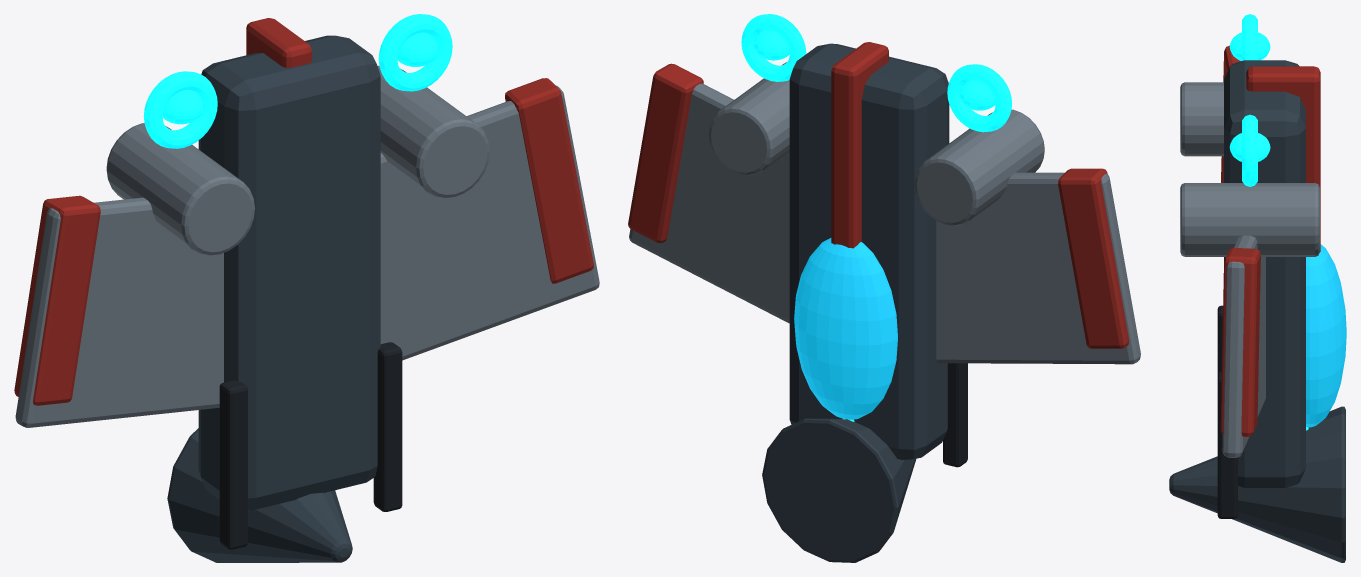
Rendered from strike-skimmer.glb.
The picture shows the model from 3 angles, left to right: view 1: azimuth 30°, elevation 25°; view 2: azimuth 150°, elevation 25°; view 3: azimuth 270°, elevation 25°; orthographic projection. The views are drawn at different scales.
Visible parts, largest first — view 1: Skimmer_Core, Skimmer_Wing_-1, Skimmer_Wing_1, Skimmer_Engine_-1, Skimmer_Nose, Skimmer_WingTip_-1, Skimmer_WingTip_1, Skimmer_Engine_1, Skimmer_Cannon_-1, Skimmer_Cannon_1, Skimmer_Thruster_-1, Skimmer_Thruster_1 (+3 smaller); view 2: Skimmer_Core, Skimmer_Wing_-1, Skimmer_Wing_1, Skimmer_Nose, Skimmer_Canopy, Skimmer_Engine_-1, Skimmer_WingTip_-1, Skimmer_WingTip_1, Skimmer_Spine, Skimmer_Engine_1, Skimmer_Thruster_-1, Skimmer_Thruster_1 (+3 smaller); view 3: Skimmer_Core, Skimmer_Nose, Skimmer_Engine_1, Skimmer_Canopy, Skimmer_Wing_1, Skimmer_WingTip_1, Skimmer_Spine, Skimmer_Engine_-1, Skimmer_Cannon_1, Skimmer_Thruster_1, Skimmer_Thruster_-1, Skimmer_Glow_-1 (+3 smaller).
Part boxes in pixels (x1,y1,x2,y2): Skimmer_Core: [198, 35, 380, 510]; Skimmer_Wing_-1: [15, 197, 223, 427]; Skimmer_Wing_1: [380, 85, 599, 360]; Skimmer_Engine_-1: [106, 123, 254, 255]; Skimmer_Nose: [167, 428, 352, 562]; Skimmer_WingTip_-1: [14, 195, 100, 405]; Skimmer_WingTip_1: [505, 78, 593, 283]; Skimmer_Engine_1: [377, 65, 489, 197]; Skimmer_Cannon_-1: [219, 380, 247, 549]; Skimmer_Cannon_1: [373, 342, 402, 511]; Skimmer_Thruster_-1: [143, 71, 217, 148]; Skimmer_Thruster_1: [378, 14, 452, 91]; Skimmer_Core: [789, 43, 949, 459]; Skimmer_Wing_-1: [936, 172, 1140, 364]; Skimmer_Wing_1: [629, 83, 789, 323]; Skimmer_Nose: [762, 418, 916, 562]; Skimmer_Canopy: [794, 238, 897, 419]; Skimmer_Engine_-1: [914, 109, 1044, 225]; Skimmer_WingTip_-1: [1058, 168, 1129, 348]; Skimmer_WingTip_1: [628, 63, 703, 242]; Skimmer_Spine: [831, 42, 888, 248]; Skimmer_Engine_1: [708, 62, 789, 175]; Skimmer_Thruster_-1: [947, 64, 1011, 132]; Skimmer_Thruster_1: [741, 14, 806, 81]; Skimmer_Core: [1224, 60, 1305, 487]; Skimmer_Nose: [1169, 406, 1345, 562]; Skimmer_Engine_1: [1180, 183, 1319, 256]; Skimmer_Canopy: [1306, 244, 1346, 427]; Skimmer_Wing_1: [1222, 235, 1265, 457]; Skimmer_WingTip_1: [1220, 247, 1260, 436]; Skimmer_Spine: [1246, 66, 1320, 251]; Skimmer_Engine_-1: [1180, 82, 1223, 156]; Skimmer_Cannon_1: [1217, 371, 1237, 518]; Skimmer_Thruster_1: [1242, 114, 1257, 186]; Skimmer_Thruster_-1: [1242, 14, 1257, 60]; Skimmer_Glow_-1: [1229, 32, 1270, 60].
Size of the model in its own units: 3.16 by 2.9 by 0.955.
